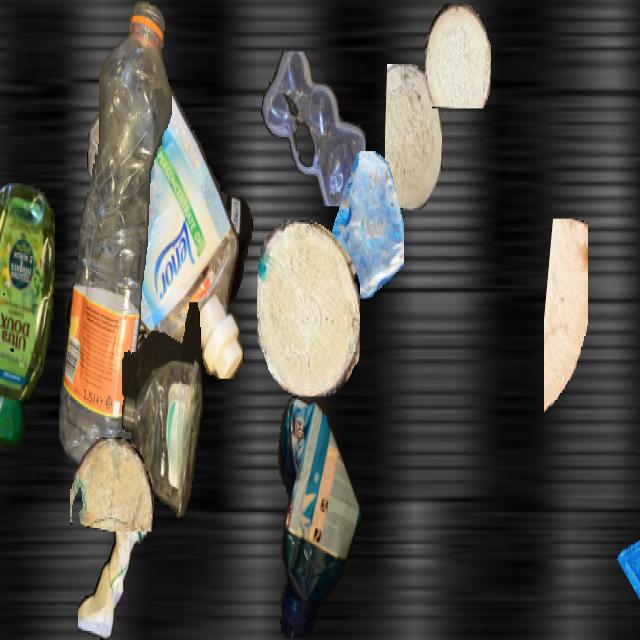glass: (321, 151, 403, 297), (616, 478, 640, 638)
plastic: (59, 2, 171, 471), (86, 71, 246, 377), (65, 197, 253, 439), (272, 393, 360, 638), (122, 302, 204, 519), (261, 52, 367, 205), (0, 183, 54, 446), (78, 489, 146, 638)
wood: (257, 220, 359, 394), (544, 219, 588, 425), (385, 64, 441, 210), (70, 437, 154, 530), (425, 3, 491, 106)
